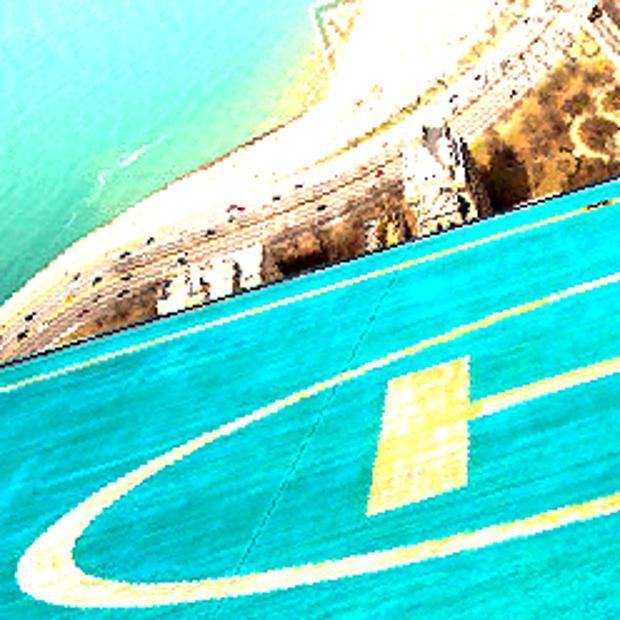Apron: (12, 257, 620, 617)
